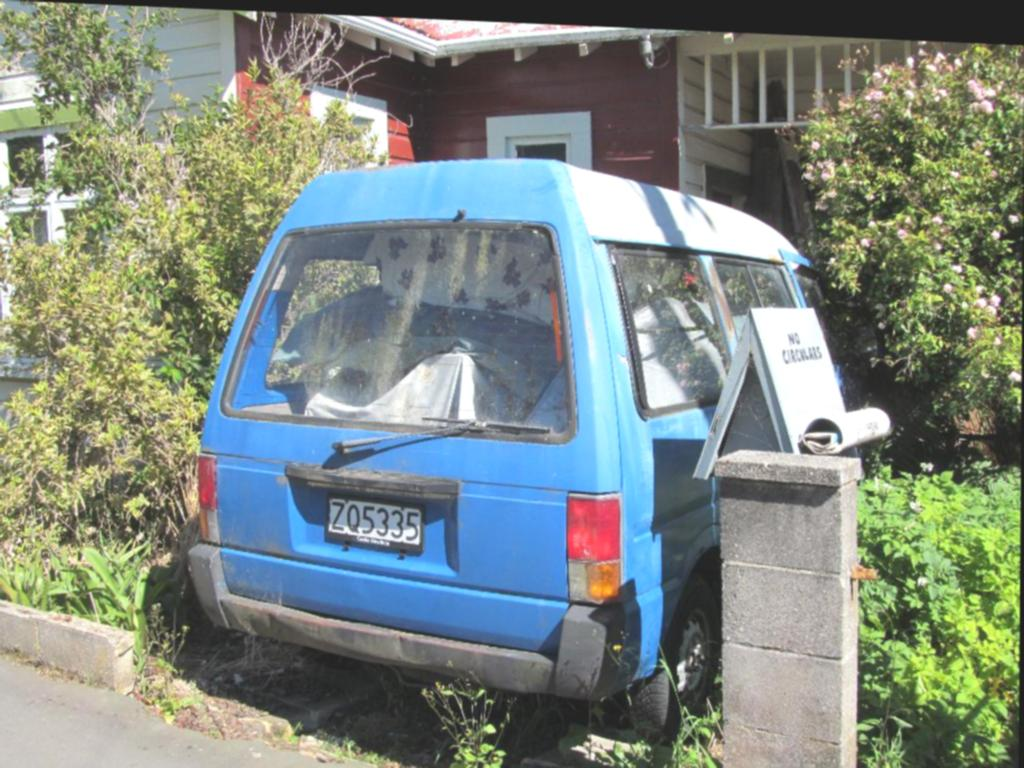License_Plate: (324, 495, 426, 553)
